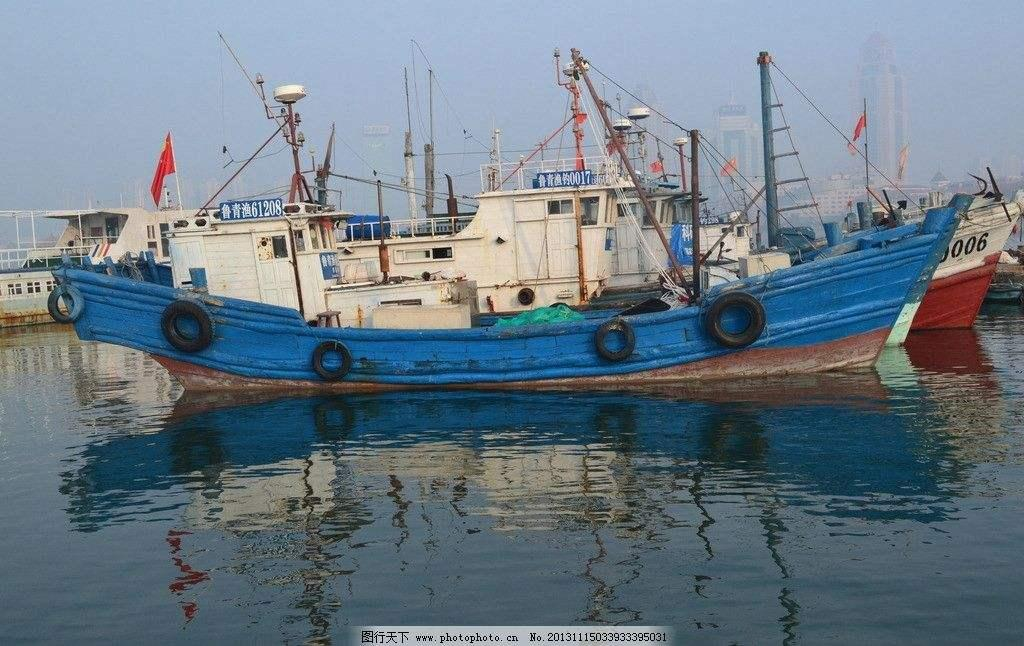otherboat: (41, 24, 976, 401)
